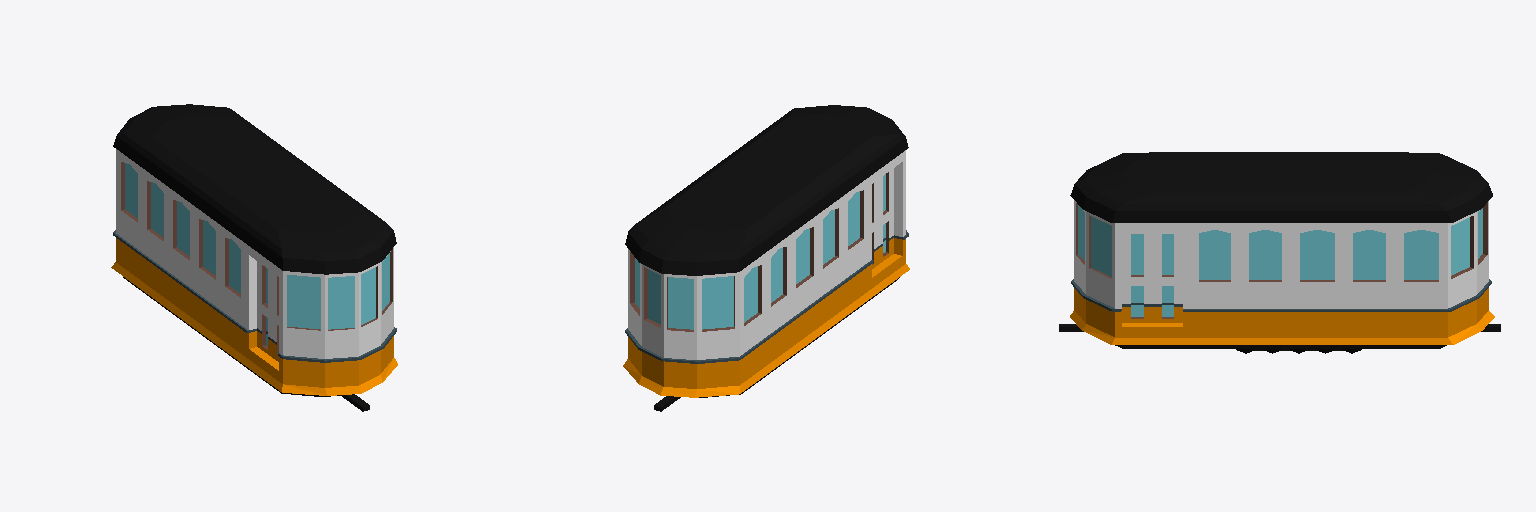
Rendered from Tram_01.obj.
3 renders of one model, left to right at view 1: azimuth 30°, elevation 25°; view 2: azimuth 150°, elevation 25°; view 3: azimuth 270°, elevation 25°, orthographic.
Parts seen in each view (by area): view 1: Tram_Cube.028; view 2: Tram_Cube.028; view 3: Tram_Cube.028.
Boxes of the visible parts, x1,y1,x2,y2 form: Tram_Cube.028: [111, 104, 397, 411]; Tram_Cube.028: [623, 105, 909, 411]; Tram_Cube.028: [1059, 152, 1500, 353].
Bounding box in the file's own units: 3.23 × 4.41 × 10.61.